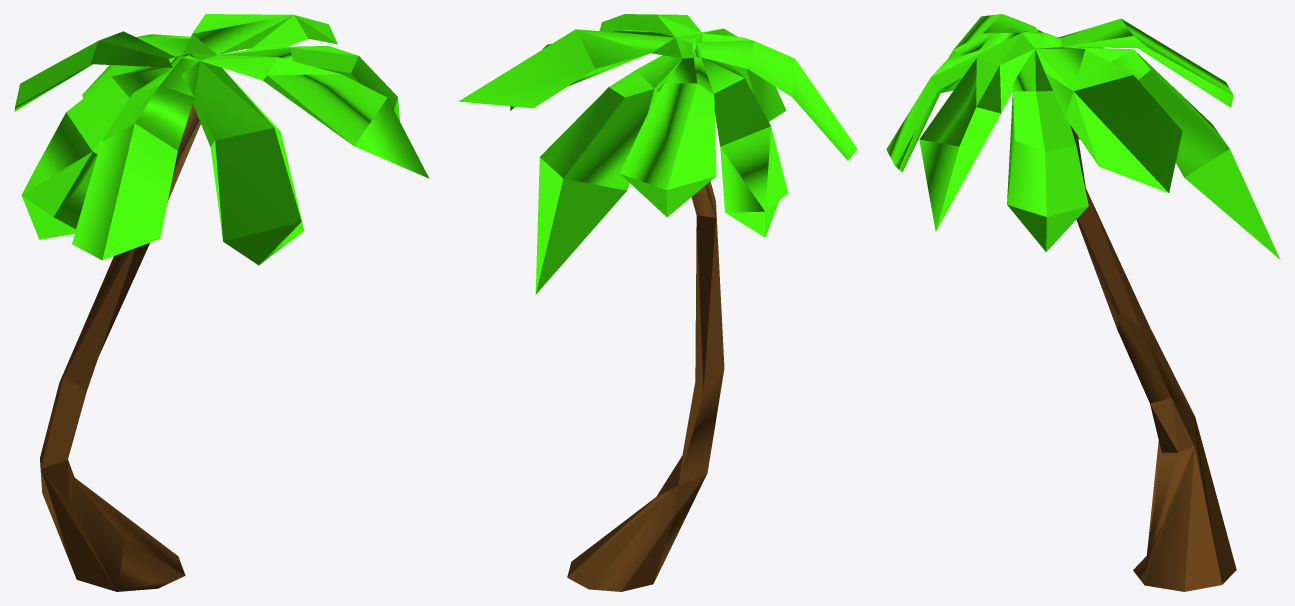
File: Tree1.FBX
3 views of the same model, side by side, from view 1: azimuth 30°, elevation 25°; view 2: azimuth 150°, elevation 25°; view 3: azimuth 270°, elevation 25° (orthographic). The views are drawn at different scales.
Parts seen in each view (by area): view 1: PalmTree03_LOD1; view 2: PalmTree03_LOD1; view 3: PalmTree03_LOD1.
Boxes of the visible parts, box(x1,y1,x2,y2) form: PalmTree03_LOD1: box(14, 14, 429, 591); PalmTree03_LOD1: box(458, 14, 857, 591); PalmTree03_LOD1: box(886, 14, 1280, 591).
Bounding box in the file's own units: 39.33 × 59.56 × 40.15.
